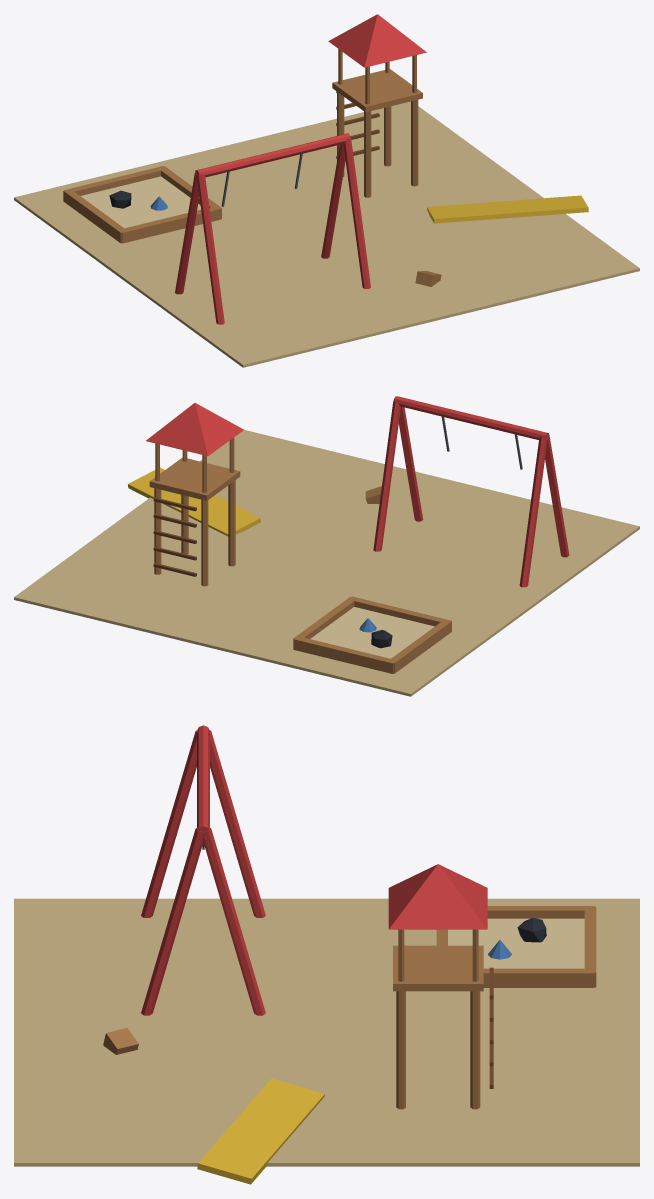
Rendered from playground_broken.gltf.
3 renders of one model, top to bottom at view 1: azimuth 30°, elevation 25°; view 2: azimuth 150°, elevation 25°; view 3: azimuth 270°, elevation 25°, orthographic. The views are drawn at different scales.
Visible parts, largest first — view 1: playground_broken; view 2: playground_broken; view 3: playground_broken.
Part boxes in pixels (x1=…): playground_broken: x1=14, y1=14, x2=639, y2=367; playground_broken: x1=14, y1=396, x2=639, y2=696; playground_broken: x1=14, y1=725, x2=639, y2=1184.
Size of the model in its own units: 8.14 by 3.15 by 7.6.
